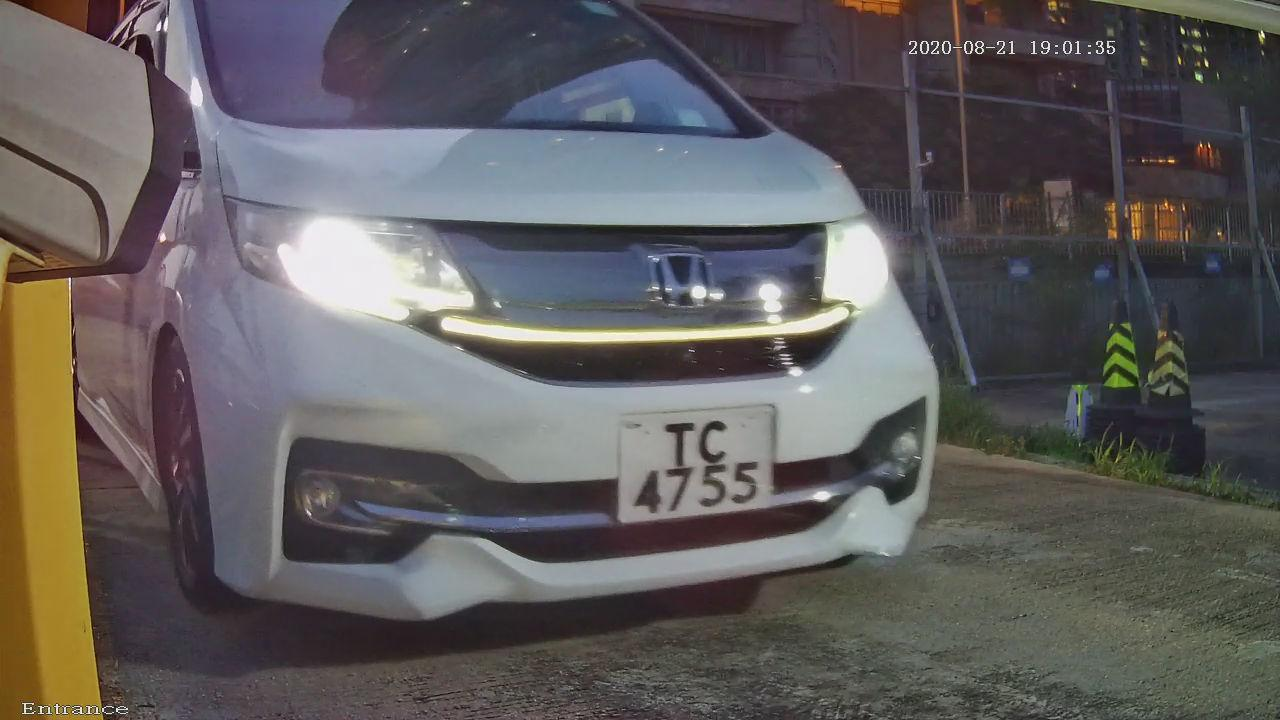License Plate: (601, 399, 795, 534)
